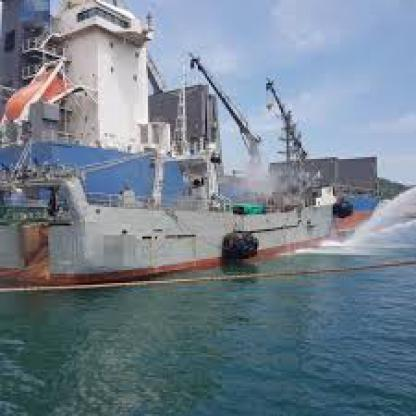fish-b: (0, 124, 357, 285)
